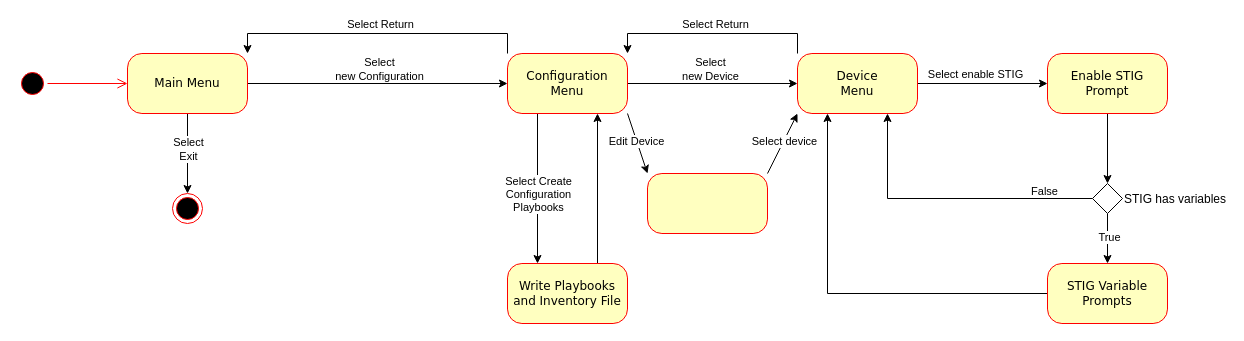
Image size: 1244x341. Some labels were removed from this diagram. The centre of each missing label's shape, as x and y in pixels:
End: point 187,208
List Existing Devices: point 707,203
Start: point 32,83
